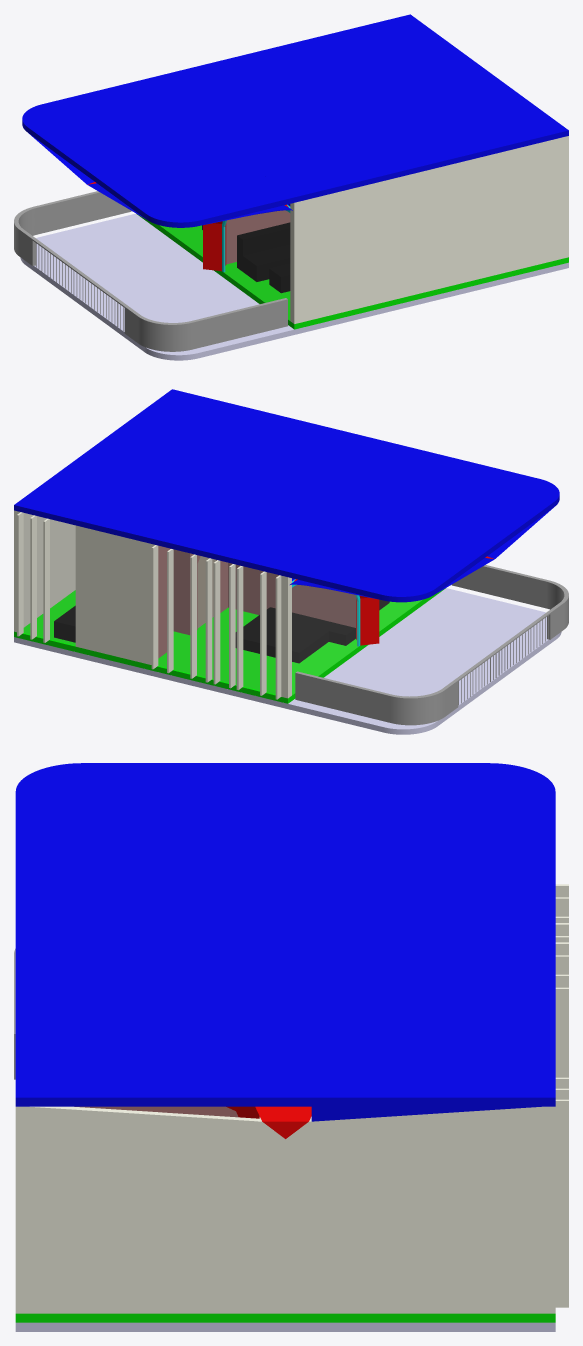
3 views of the same model, one above another, from view 1: azimuth 30°, elevation 25°; view 2: azimuth 150°, elevation 25°; view 3: azimuth 270°, elevation 25° (orthographic). The views are drawn at different scales.
Visible parts, largest first — view 1: slabs, EXTERNAL WALLS, FLOOR PLATES, railings, glasses, floors, internal walls, object 27, object 28, columns, object 29; view 2: slabs, EXTERNAL WALLS, glasses, FLOOR PLATES, railings, floors, internal walls, object 12, columns, object 14, object 13; view 3: slabs, EXTERNAL WALLS, FLOOR PLATES, floors, columns, internal walls.
Boxes of the visible parts, box(x1,y1,x2,y2) form: slabs: box(22, 14, 568, 227); EXTERNAL WALLS: box(290, 136, 568, 323); FLOOR PLATES: box(20, 213, 568, 360); railings: box(14, 191, 287, 351); glasses: box(161, 204, 290, 320); floors: box(137, 214, 568, 329); internal walls: box(226, 210, 290, 264); object 27: box(237, 244, 290, 281); object 28: box(237, 222, 290, 255); columns: box(88, 182, 288, 271); object 29: box(269, 263, 290, 293); slabs: box(14, 389, 559, 602); EXTERNAL WALLS: box(14, 510, 291, 699); glasses: box(24, 513, 421, 694); FLOOR PLATES: box(14, 588, 561, 734); railings: box(295, 565, 568, 725); floors: box(14, 588, 445, 703); internal walls: box(158, 545, 355, 658); object 12: box(235, 607, 338, 663); columns: box(294, 556, 493, 645); object 14: box(54, 605, 75, 642); object 13: box(329, 624, 355, 645); slabs: box(15, 763, 555, 1121); EXTERNAL WALLS: box(15, 884, 568, 1313); FLOOR PLATES: box(15, 1322, 555, 1331); floors: box(15, 1313, 555, 1322); columns: box(226, 1106, 311, 1138); internal walls: box(74, 1106, 238, 1117).
Bounding box in the file's own units: 11.99 × 3.83 × 8.23.
